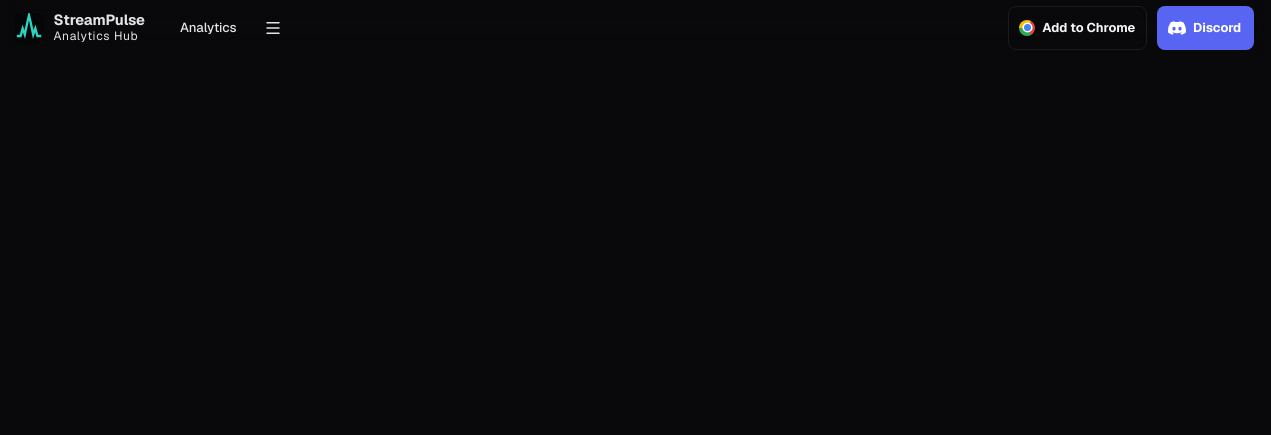
Scenario: feedback and Discord beyond the landing page › shows Discord once on the analytics bar, beside the install button, and not again in the menu
The width and height of the screenshot is (1271, 435).
Click the button named "Support and account": (273, 28) [251,6,295,50]
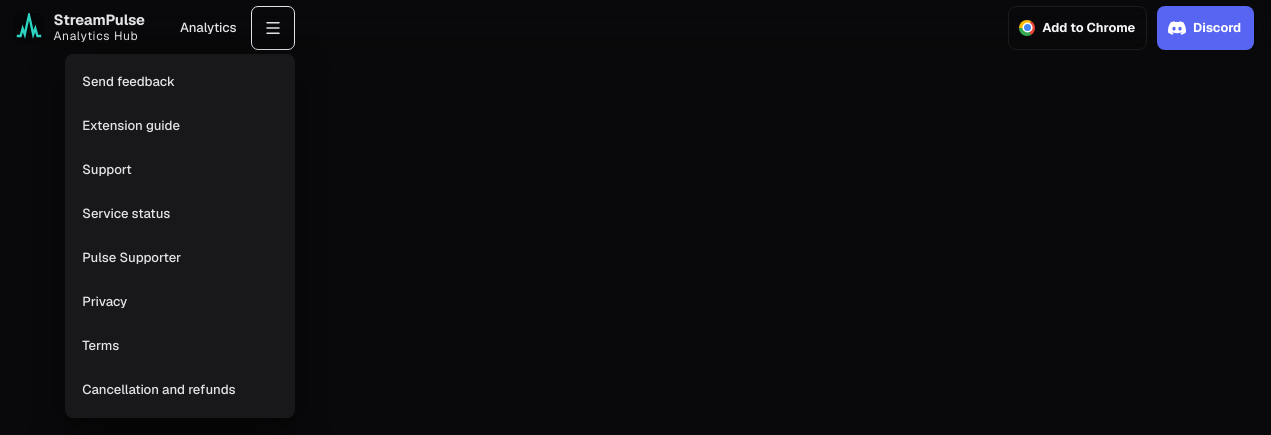
Expected: the link "Send feedback" is shown, [82,73,175,90]
